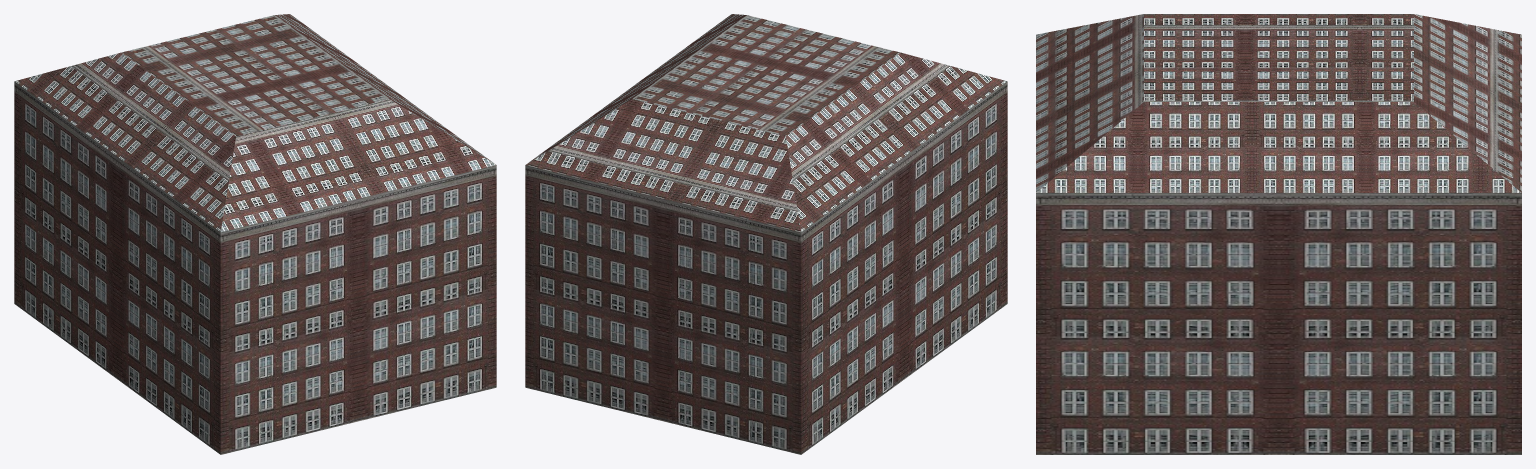
The model's file is binassddsd.fbx.
The picture shows the model from 3 angles, left to right: view 1: azimuth 30°, elevation 25°; view 2: azimuth 150°, elevation 25°; view 3: azimuth 270°, elevation 25°; orthographic projection. The views are drawn at different scales.
Parts seen in each view (by area): view 1: Cube; view 2: Cube; view 3: Cube.
Part boxes in pixels (x1,y1,x2,y2): Cube: [14, 14, 496, 454]; Cube: [525, 14, 1007, 454]; Cube: [1036, 14, 1521, 454].
Bounding box in the file's own units: 299 × 280 × 388.
1 material, 1 textured.
